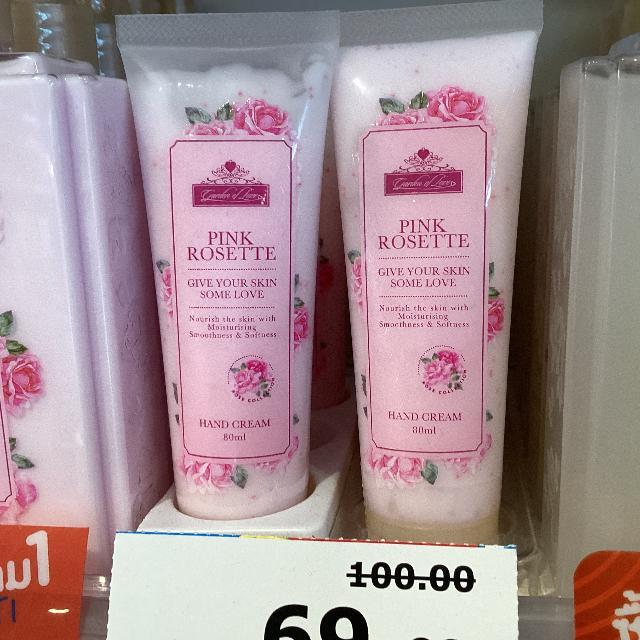Squeeze Tube: (100, 0, 563, 602)
